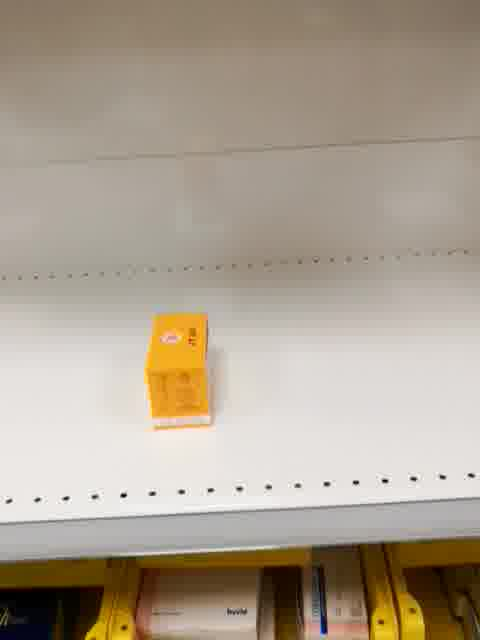jasminetea: (144, 311, 213, 429)
